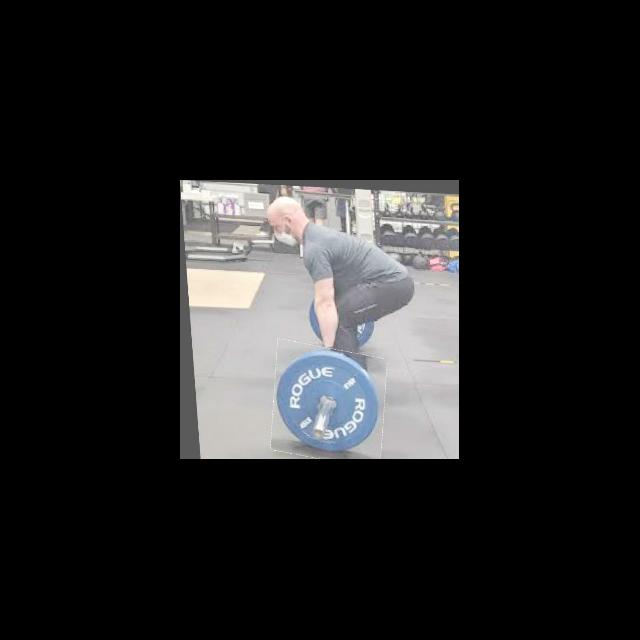barbell: (264, 340, 387, 459)
